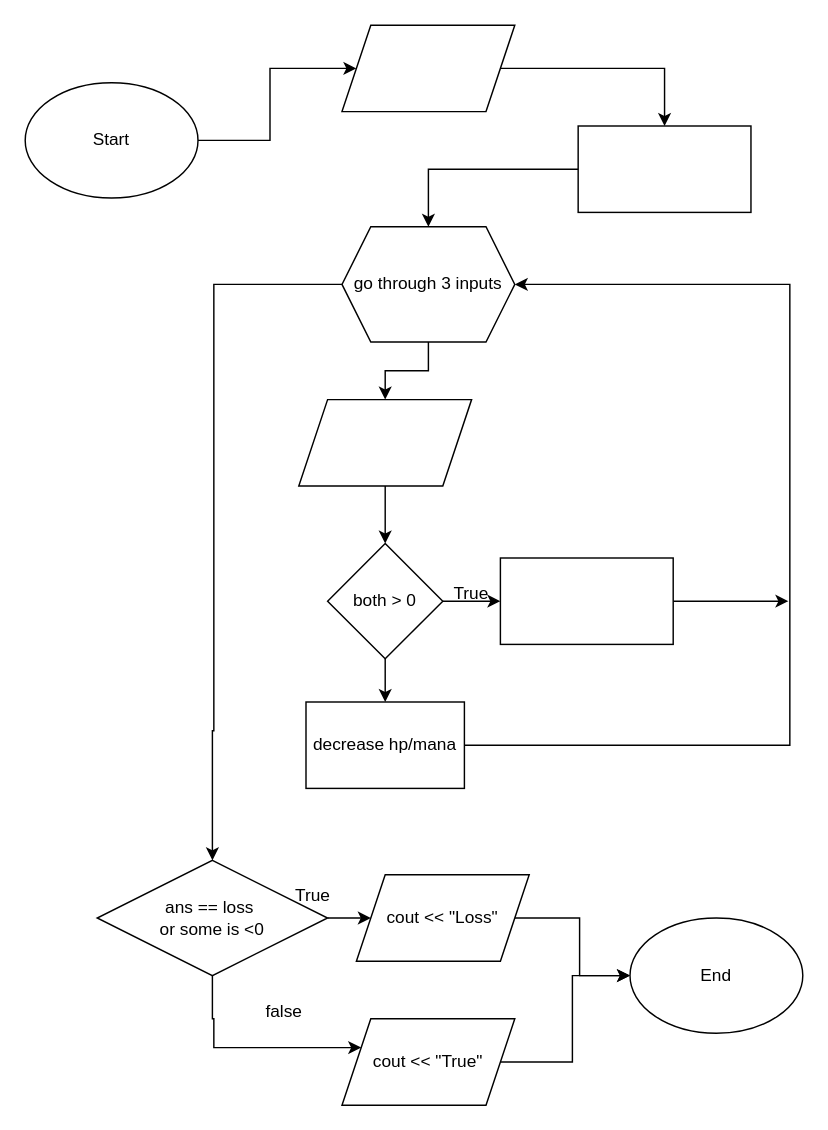
Image size: 828x1130. Some labels were removed from this diagram. Here are the shapes that lost their labels. From the top down, the centre of each, then its label:
At point (428, 68): "cin >> h,m".
At point (664, 168): "init. needed lists".
At point (384, 442): "cin >> a, b".
At point (586, 600): "ans = loss".
